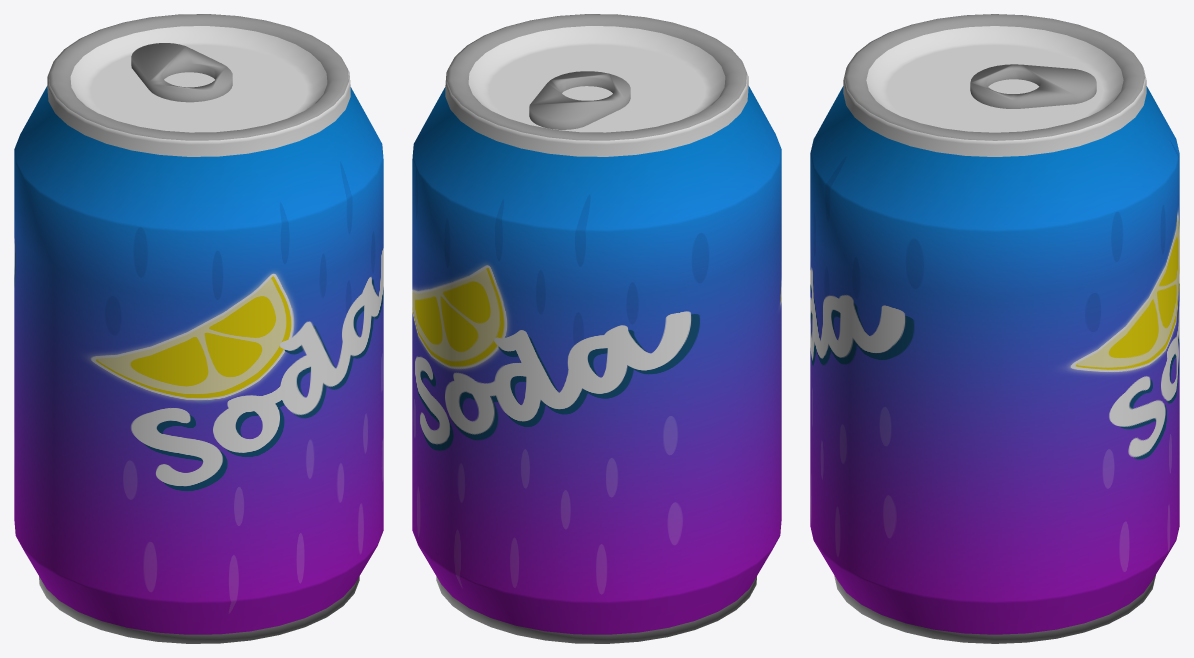
Rendered from Soda.fbx.
3 renders of one model, left to right at view 1: azimuth 30°, elevation 25°; view 2: azimuth 150°, elevation 25°; view 3: azimuth 270°, elevation 25°, orthographic.
Visible parts, largest first — view 1: Soda; view 2: Soda; view 3: Soda.
Boxes of the visible parts, <box> form: Soda: <box>14,14,383,643</box>; Soda: <box>412,14,781,643</box>; Soda: <box>810,14,1179,643</box>.
Size of the model in its own units: 7.86 by 11.73 by 7.86.
